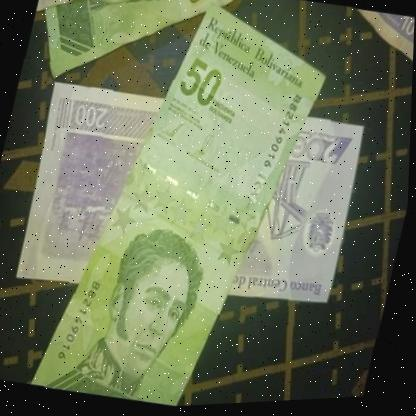fifty-front-vef: (31, 0, 339, 414), (19, 0, 251, 111)
ten-back-vef: (337, 6, 415, 79), (35, 0, 140, 33)
two_hundred-back-vef: (9, 66, 369, 339)
